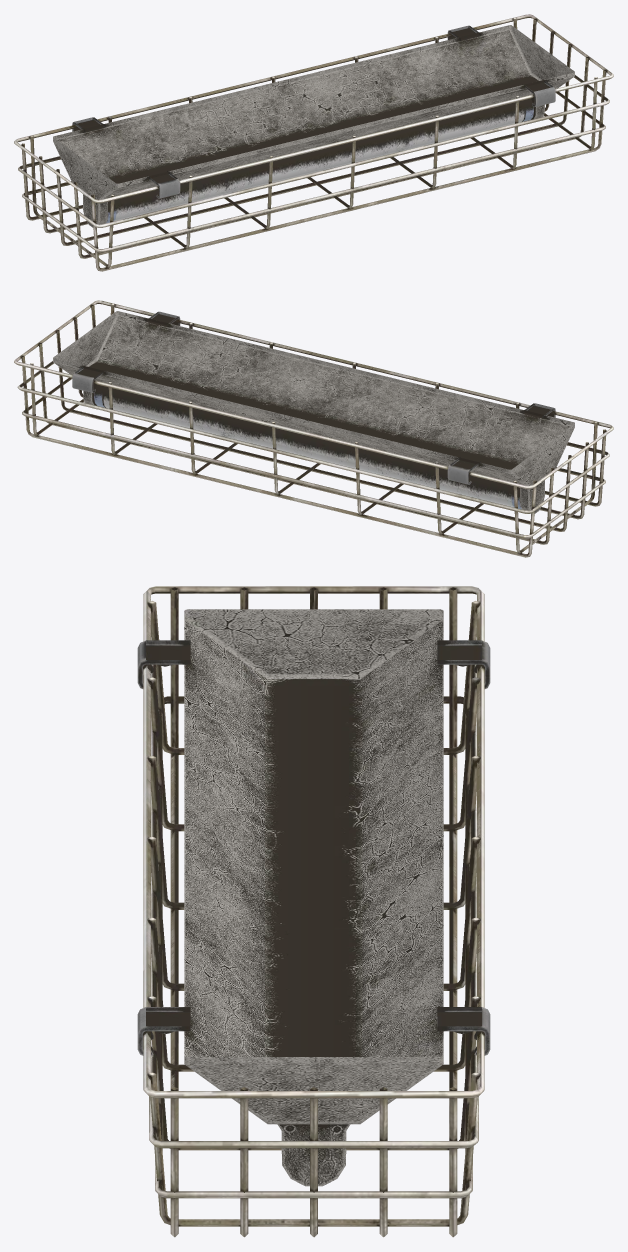
File: ceiling_lamp_long.glb
3 renders of one model, top to bottom at view 1: azimuth 30°, elevation 25°; view 2: azimuth 150°, elevation 25°; view 3: azimuth 270°, elevation 25°, orthographic. The views are drawn at different scales.
Visible parts, largest first — view 1: 01__0; view 2: 01__0; view 3: 01__0.
Part boxes in pixels (x1,y1,x2,y2): 01__0: (14,14,613,271); 01__0: (14,300,613,557); 01__0: (137,586,490,1237).
Bounding box in the file's own units: 1.06 × 0.1582 × 0.3099.
Materials: 1 (1 with a texture image).
